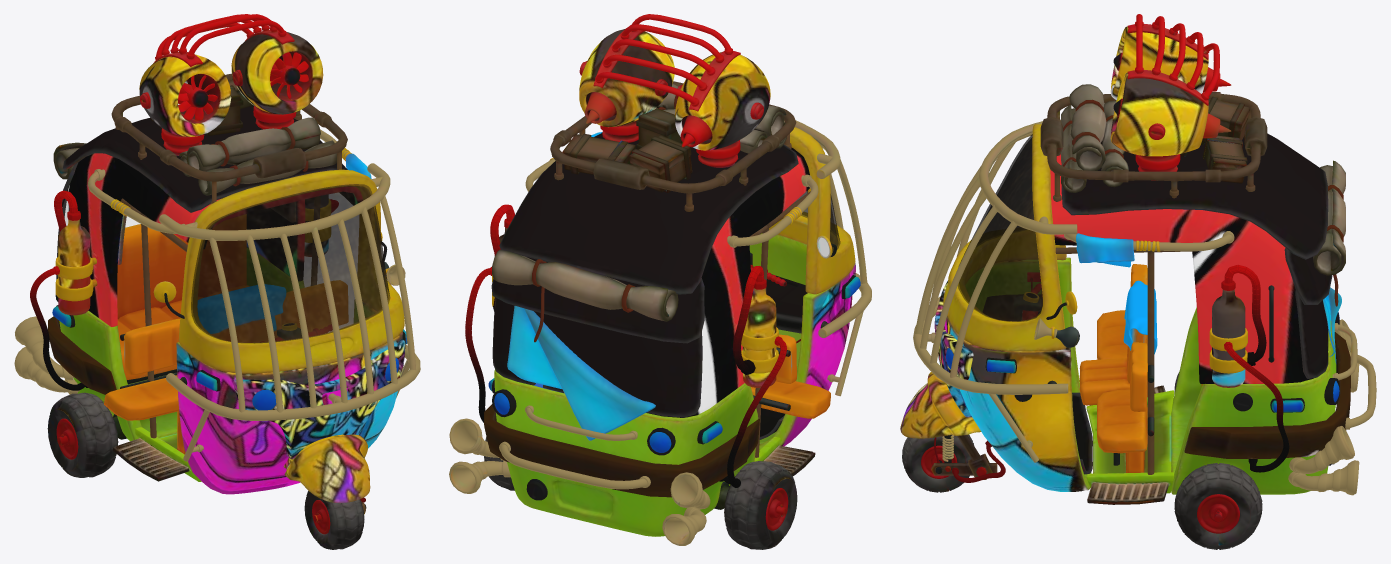
The picture shows the model from 3 angles, left to right: view 1: azimuth 30°, elevation 25°; view 2: azimuth 150°, elevation 25°; view 3: azimuth 270°, elevation 25°; orthographic projection. The views are drawn at different scales.
Parts seen in each view (by area): view 1: Roof_Cover1_Rickshaw_0, Body6_Windshield_0; view 2: Roof_Cover1_Rickshaw_0; view 3: Roof_Cover1_Rickshaw_0, Body6_Windshield_0.
Boxes of the visible parts, x1,y1,x2,y2 form: Roof_Cover1_Rickshaw_0: (14, 14, 420, 549); Body6_Windshield_0: (191, 184, 390, 343); Roof_Cover1_Rickshaw_0: (449, 14, 871, 549); Roof_Cover1_Rickshaw_0: (900, 14, 1376, 549); Body6_Windshield_0: (958, 134, 1042, 321).
Bounding box in the file's own units: 0.1074 × 0.155 × 0.145.
2 materials, 2 textured.
